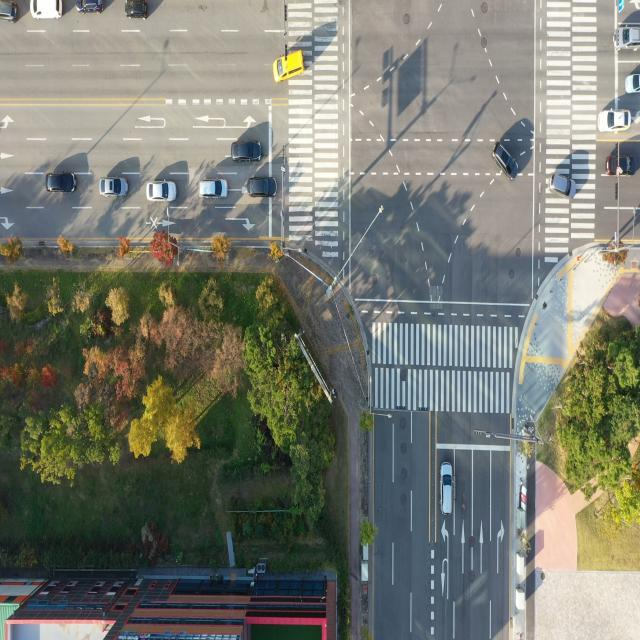car: (492, 143, 520, 180), (274, 53, 305, 84), (547, 172, 578, 202), (595, 106, 630, 132), (30, 0, 68, 20), (231, 140, 262, 164), (47, 172, 76, 195), (148, 181, 178, 203), (442, 462, 454, 516), (123, 0, 150, 24), (74, 0, 108, 19), (250, 177, 278, 199), (199, 178, 228, 199), (607, 158, 633, 179), (99, 178, 126, 198), (0, 0, 21, 25), (625, 71, 640, 101)
